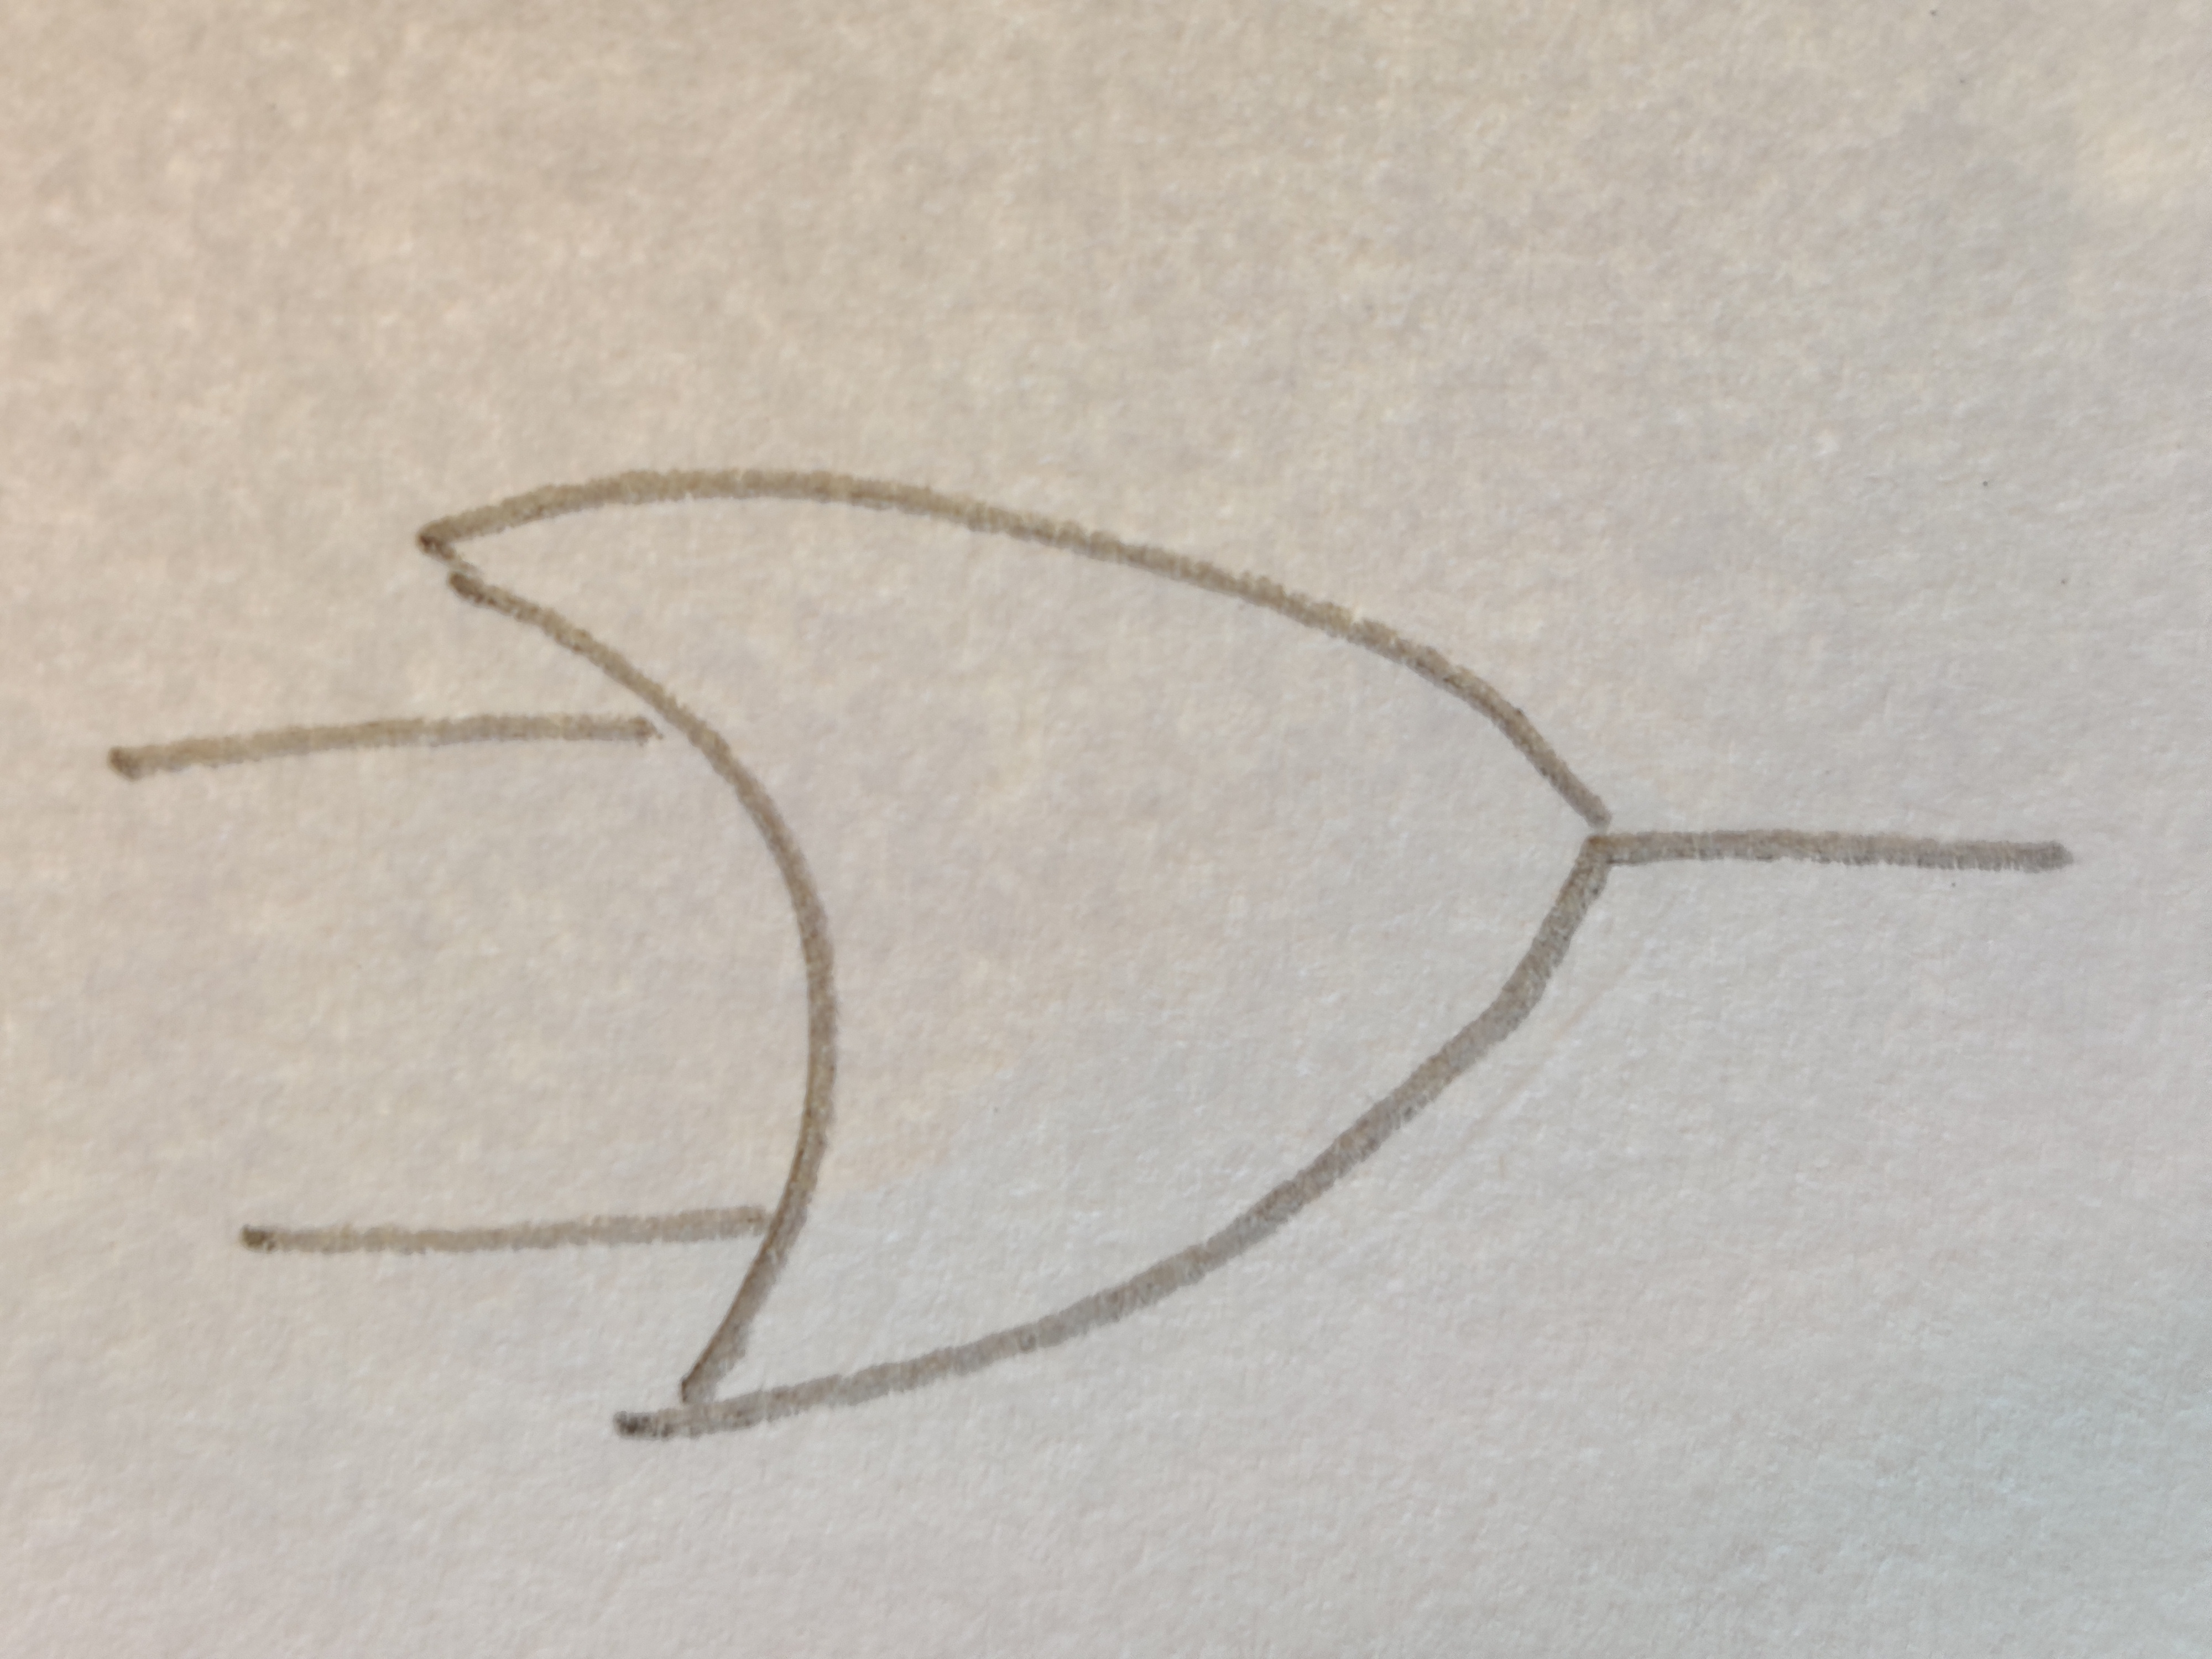or: (425, 469, 1611, 1439)
